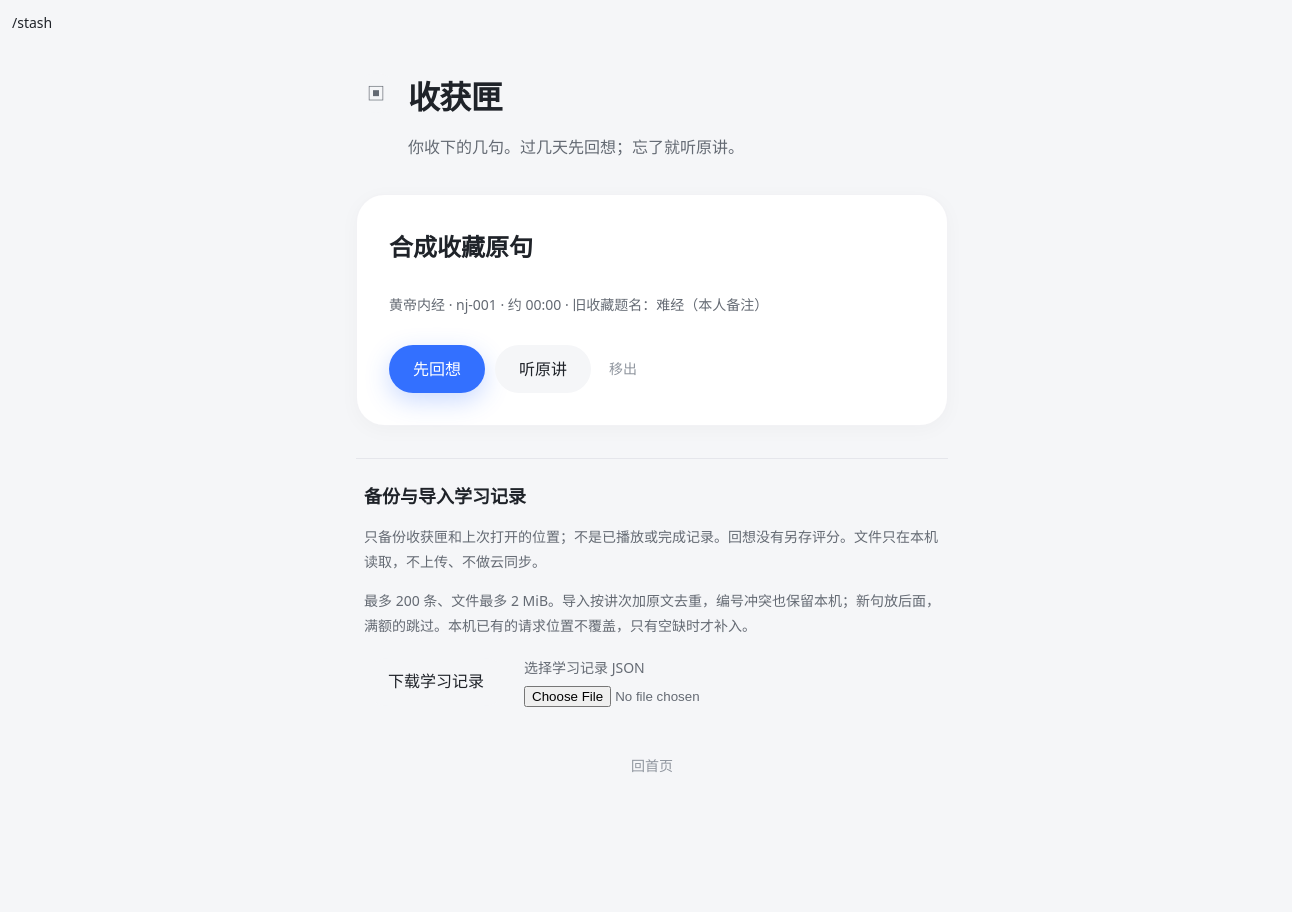
it: historical stash -> recall -> source keeps personal legacy wording/IDs/bytes while displaying the corrected series
Check: the text with class "stash-where" shows "黄帝内经 · nj-001", box [389, 295, 561, 314]
Click the link "先回想" at (437, 369), box [389, 345, 485, 393]
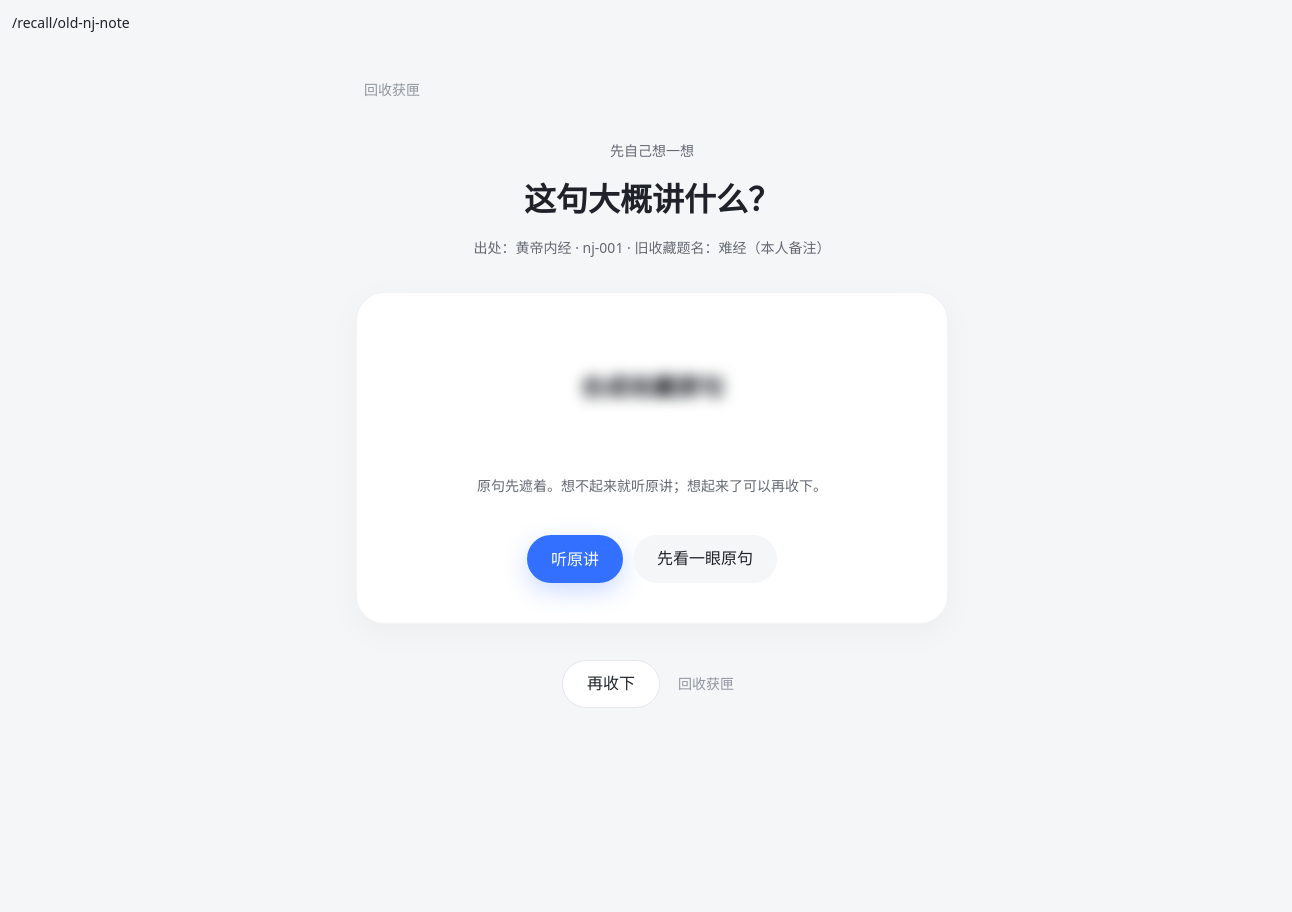
Check: the text with test id "location" reads "/recall/old-nj-note", box [12, 13, 130, 32]
Check: the text "出处：黄帝内经 · nj-001 · 旧收藏题名：难经（本人备注）" is shown, box [474, 238, 830, 257]
Click the link "听原讲" at (575, 559), box [527, 535, 623, 583]
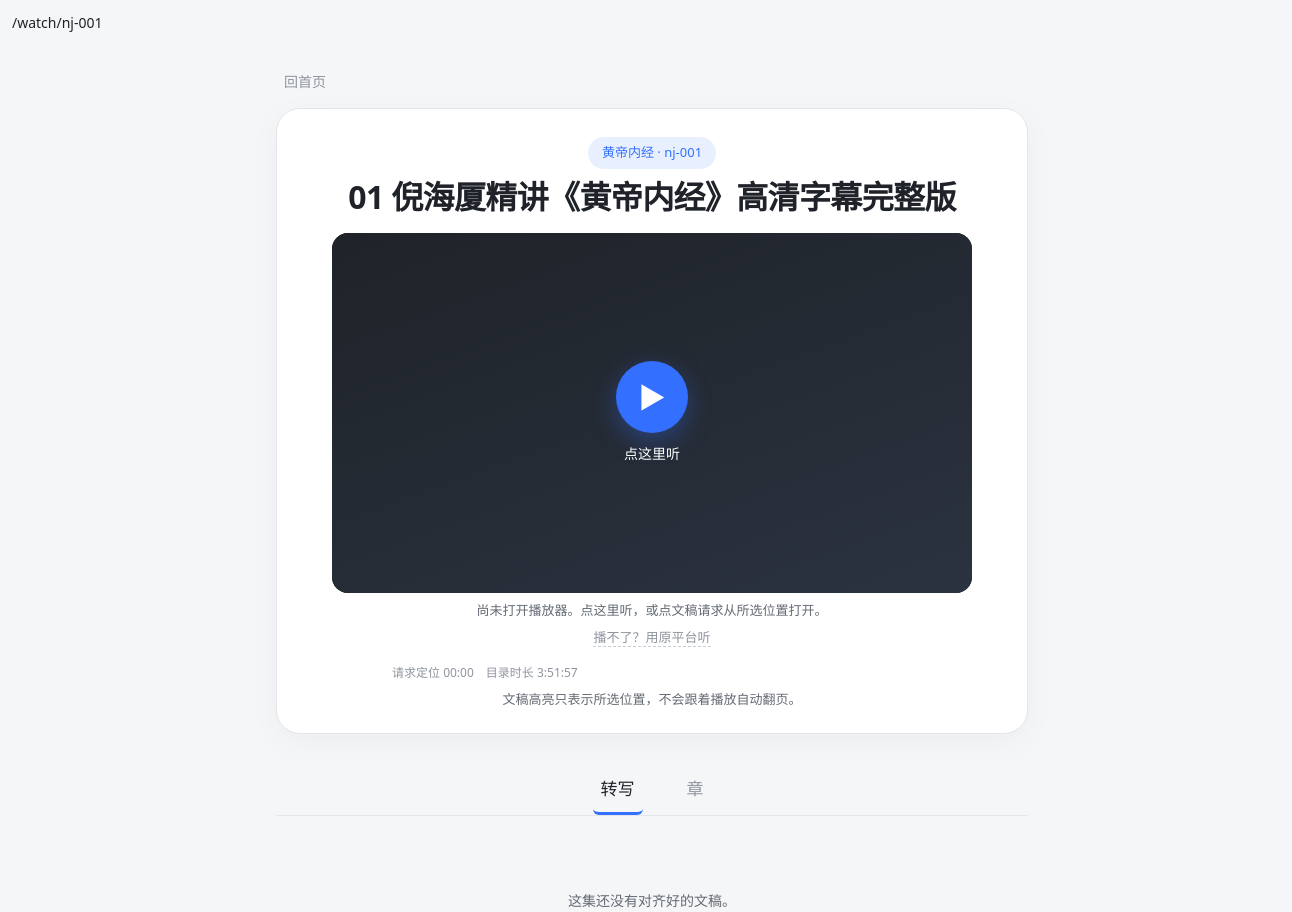
Check: the link with class "series-chip" reads "黄帝内经 · nj-001", box [588, 137, 716, 168]
Check: the text with test id "location" reads "/watch/nj-001", box [12, 13, 102, 32]
